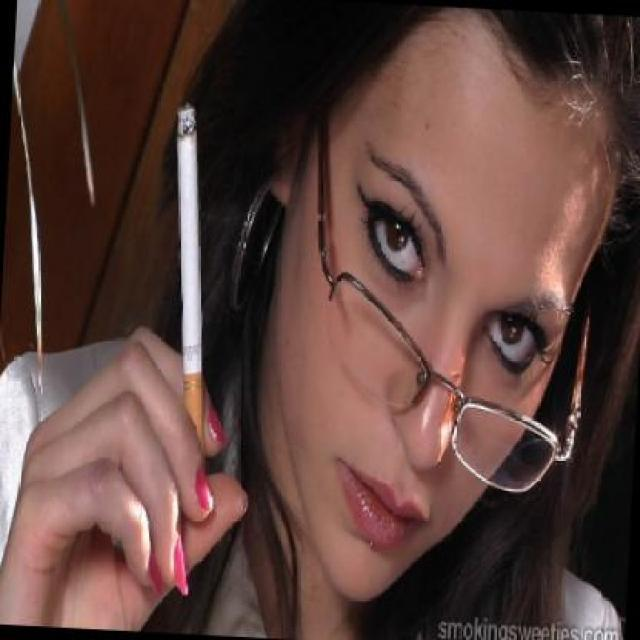cigarette: (157, 100, 226, 465)
